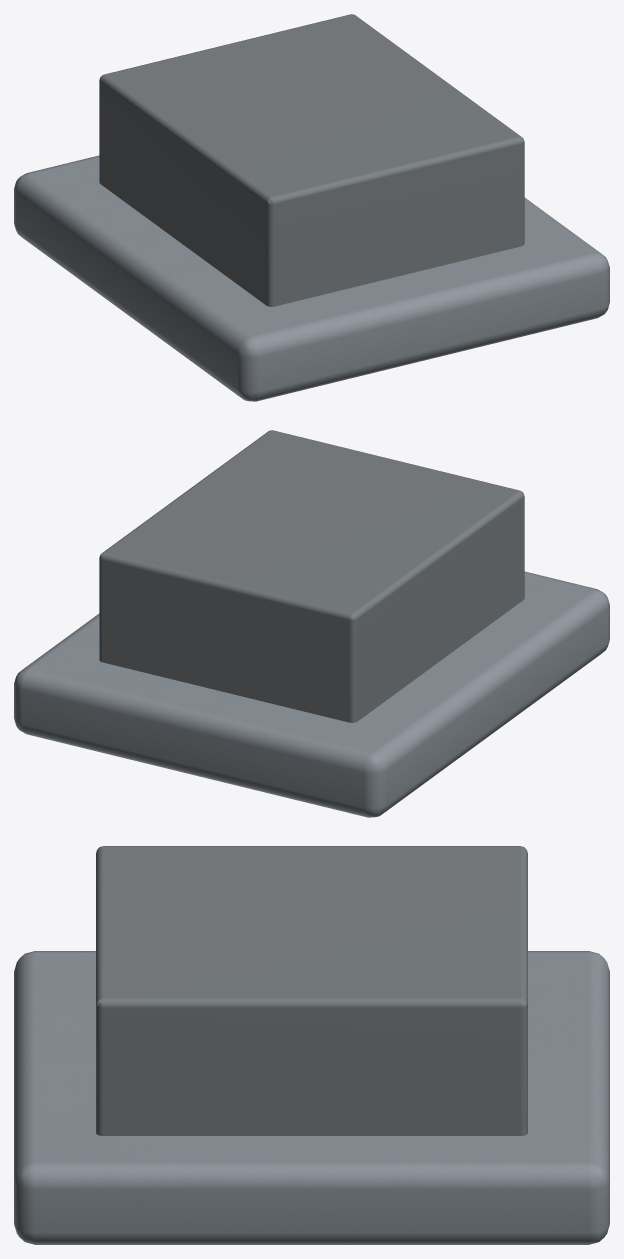
Rendered from m1911_magazine.glb.
The picture shows the model from 3 angles, top to bottom: view 1: azimuth 30°, elevation 25°; view 2: azimuth 150°, elevation 25°; view 3: azimuth 270°, elevation 25°; orthographic projection. The views are drawn at different scales.
Parts seen in each view (by area): view 1: MagazineLowerWall, MagazineBaseplate; view 2: MagazineLowerWall, MagazineBaseplate; view 3: MagazineLowerWall, MagazineBaseplate.
Part boxes in pixels (left/top/right/bottom): MagazineLowerWall: left=99, top=14, right=524, bottom=306; MagazineBaseplate: left=14, top=155, right=609, bottom=401; MagazineLowerWall: left=99, top=430, right=524, bottom=722; MagazineBaseplate: left=14, top=571, right=609, bottom=817; MagazineLowerWall: left=96, top=846, right=527, bottom=1135; MagazineBaseplate: left=14, top=951, right=609, bottom=1244.
Bounding box in the file's own units: 0.036 × 0.016 × 0.04.
Materials: 2 (1 with a texture image).
